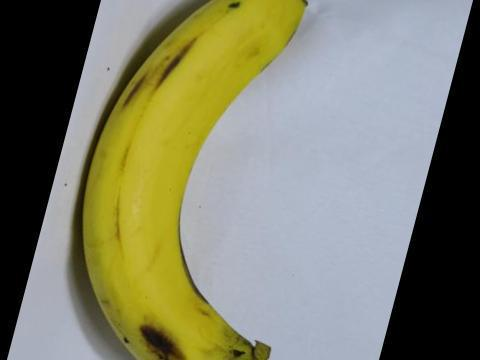freshripe: (73, 0, 332, 359)
